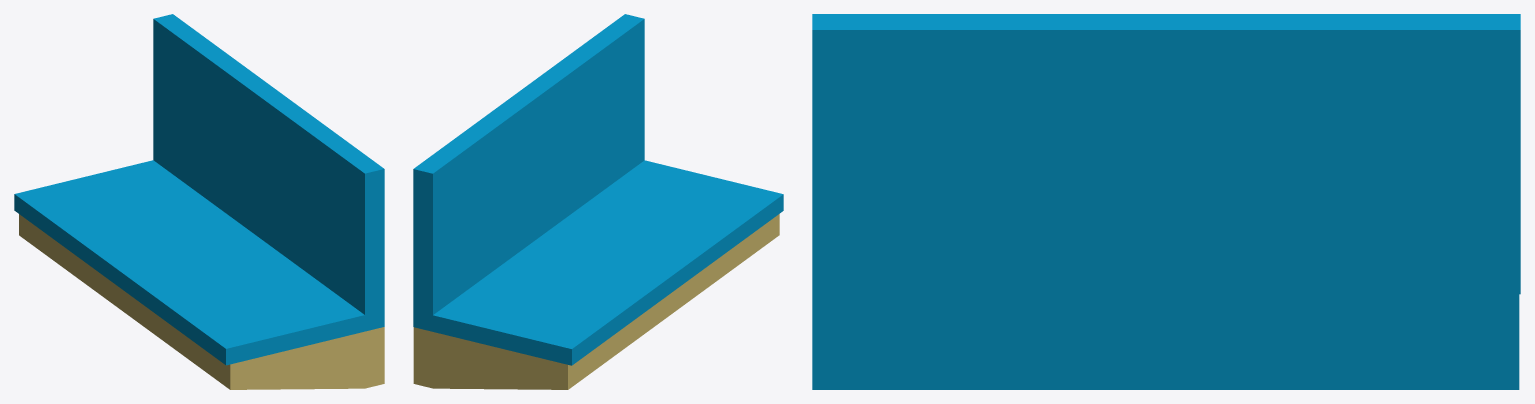
Rendered from Seats_Hallway.fbx.
3 renders of one model, left to right at view 1: azimuth 30°, elevation 25°; view 2: azimuth 150°, elevation 25°; view 3: azimuth 270°, elevation 25°, orthographic. The views are drawn at different scales.
Parts seen in each view (by area): view 1: Seats_Hallway; view 2: Seats_Hallway; view 3: Seats_Hallway.
Part boxes in pixels (x1,y1,x2,y2): Seats_Hallway: (14,14,384,389); Seats_Hallway: (413,14,783,389); Seats_Hallway: (812,14,1520,389).
Size of the model in its own units: 0.5851 by 0.7588 by 1.35.
